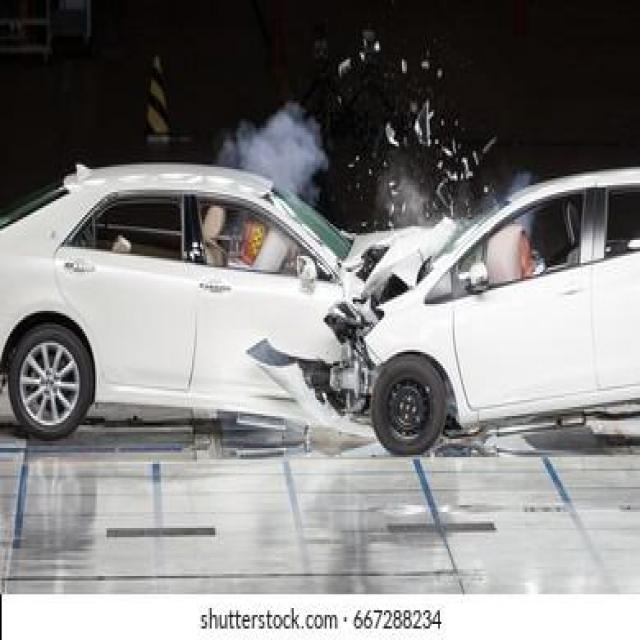accident: (0, 143, 640, 438)
